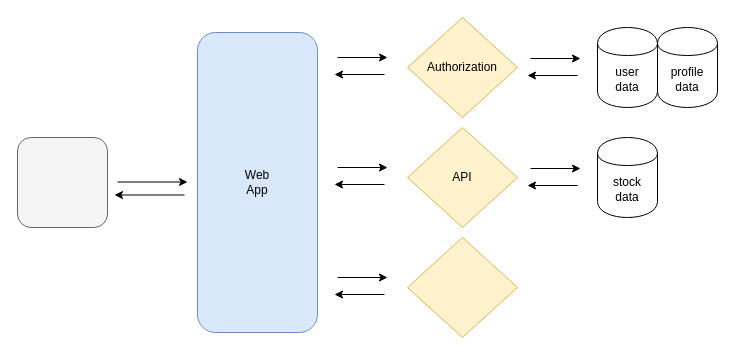
Image size: 735x355. Some labels were removed from this diagram. Each missing label, with the box of its shape:
Client (User): (16, 136, 108, 228)
Visualization: (406, 236, 518, 338)
